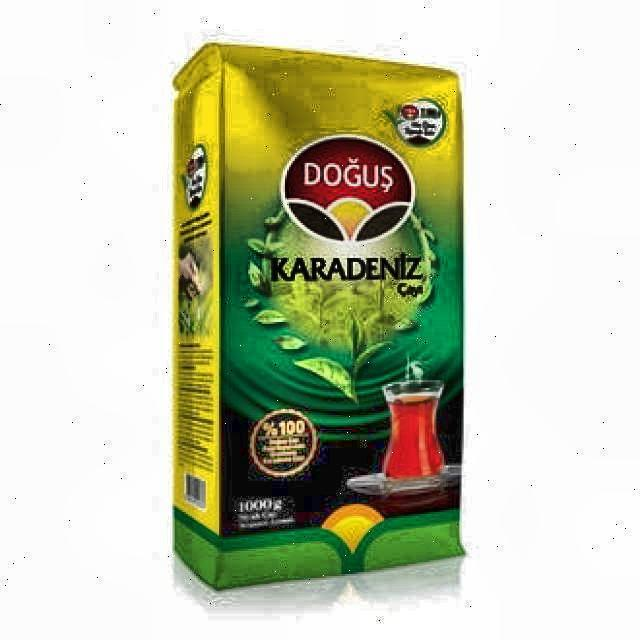plastic: (166, 42, 467, 595)
